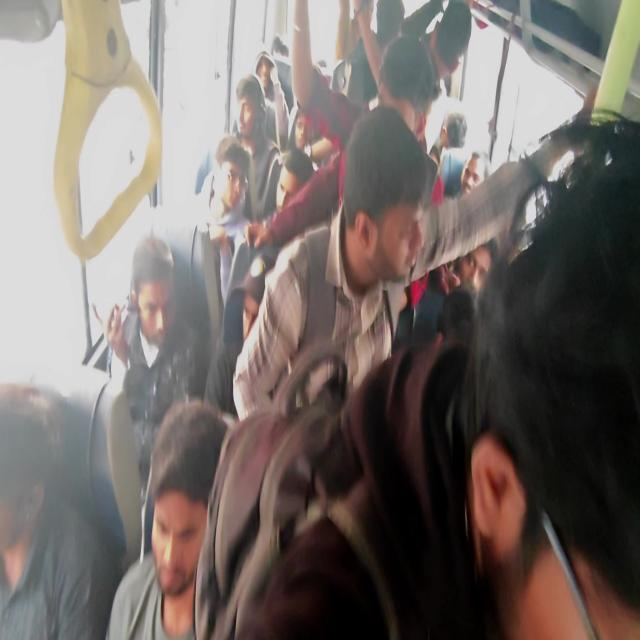person: (467, 241, 640, 640), (121, 438, 220, 596), (0, 414, 69, 630), (350, 142, 430, 313), (132, 238, 196, 374), (235, 255, 291, 377), (216, 125, 264, 232), (380, 35, 424, 133), (276, 143, 321, 225), (231, 80, 276, 150), (437, 0, 473, 78), (459, 218, 494, 288), (255, 46, 288, 101), (296, 102, 324, 164), (347, 4, 380, 48), (447, 104, 472, 156), (373, 0, 402, 44), (268, 36, 296, 81), (312, 58, 341, 96), (466, 150, 484, 193)
